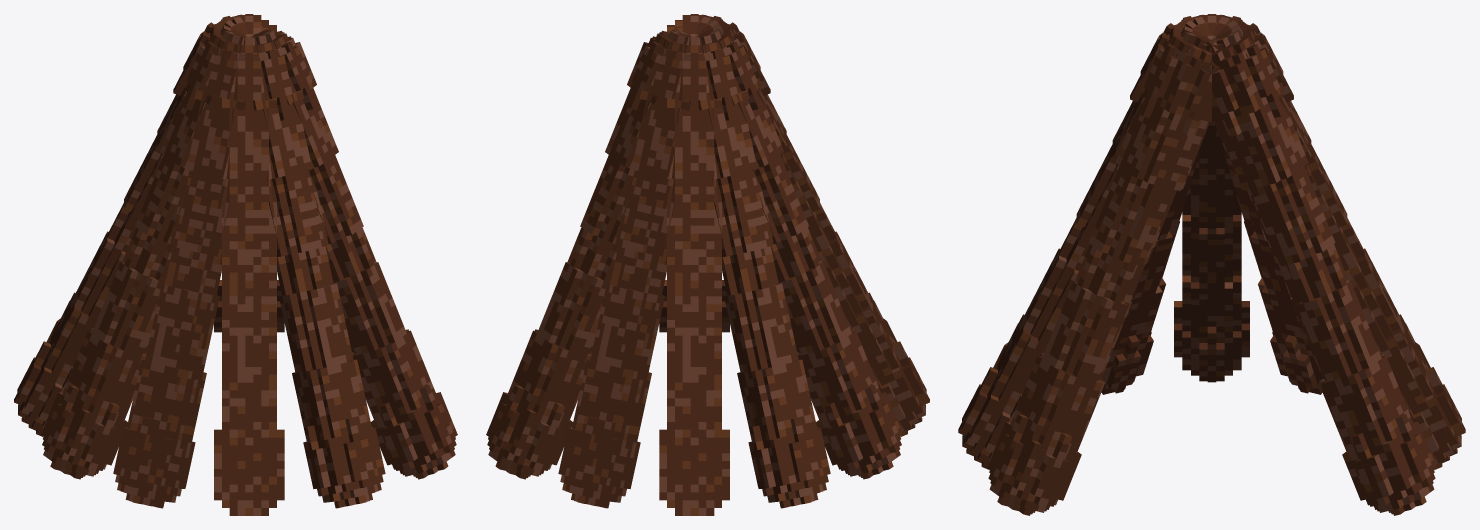
File: shalash.fbx
3 views of the same model, side by side, from view 1: azimuth 30°, elevation 25°; view 2: azimuth 150°, elevation 25°; view 3: azimuth 270°, elevation 25° (orthographic). The views are drawn at different scales.
Parts seen in each view (by area): view 1: Cube.020, Cube.018, Cube.017, Cube.012, Cube.011, Cube.014, Cube.007; view 2: Cube.014, Cube.019, Cube.016, Cube.007, Cube.011, Cube.020, Cube.012; view 3: Cube.007, Cube.012, Cube.011, Cube.018, Cube.019, Cube.014, Cube.020.
Part boxes in pixels (bbox=[...]): Cube.020: bbox=[113, 35, 247, 508]; Cube.018: bbox=[251, 35, 385, 508]; Cube.017: bbox=[214, 37, 284, 515]; Cube.012: bbox=[250, 28, 457, 479]; Cube.011: bbox=[41, 30, 246, 479]; Cube.014: bbox=[14, 25, 248, 436]; Cube.007: bbox=[214, 14, 284, 332]; Cube.014: bbox=[696, 35, 830, 508]; Cube.019: bbox=[558, 35, 692, 508]; Cube.016: bbox=[659, 37, 729, 515]; Cube.007: bbox=[486, 28, 693, 479]; Cube.011: bbox=[697, 30, 902, 479]; Cube.020: bbox=[695, 25, 929, 436]; Cube.012: bbox=[659, 14, 729, 332]; Cube.007: bbox=[1203, 32, 1436, 515]; Cube.012: bbox=[987, 32, 1220, 515]; Cube.011: bbox=[1174, 14, 1249, 382]; Cube.018: bbox=[958, 26, 1210, 469]; Cube.019: bbox=[1213, 26, 1465, 469]; Cube.014: bbox=[1212, 14, 1322, 394]; Cube.020: bbox=[1101, 14, 1211, 394].
Bounding box in the file's own units: 205 × 248 × 260.
